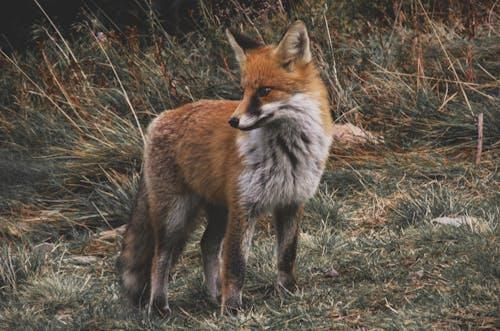fox: (121, 23, 333, 307)
